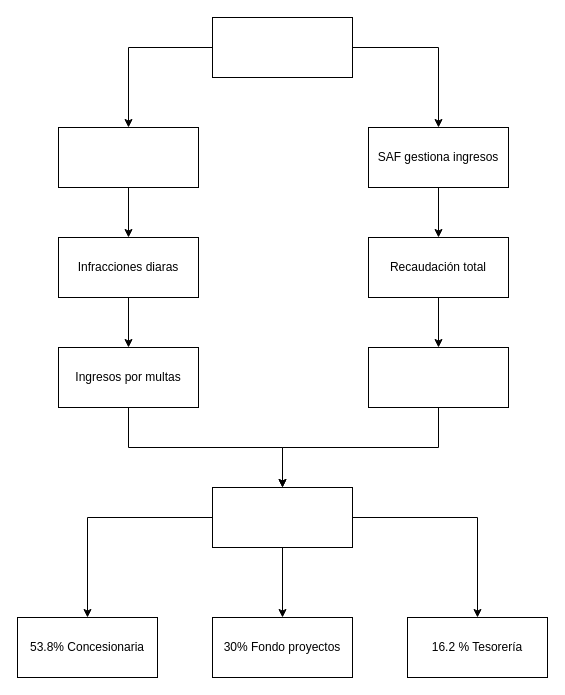
Some shapes in this 565 by 695 pixel diagram are drawn without their labels. Each missing label, with the box of its shape:
Distribución de recursos: (212, 486, 352, 548)
Ingresos por parquímetros: (368, 346, 508, 408)
SEMOVI define zonas: (212, 16, 352, 78)
SSC aplica control: (58, 126, 198, 188)
